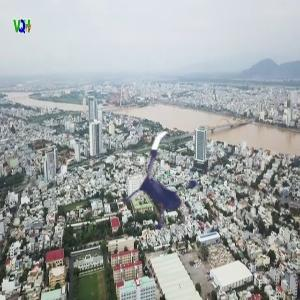drone: (112, 130, 229, 247)
